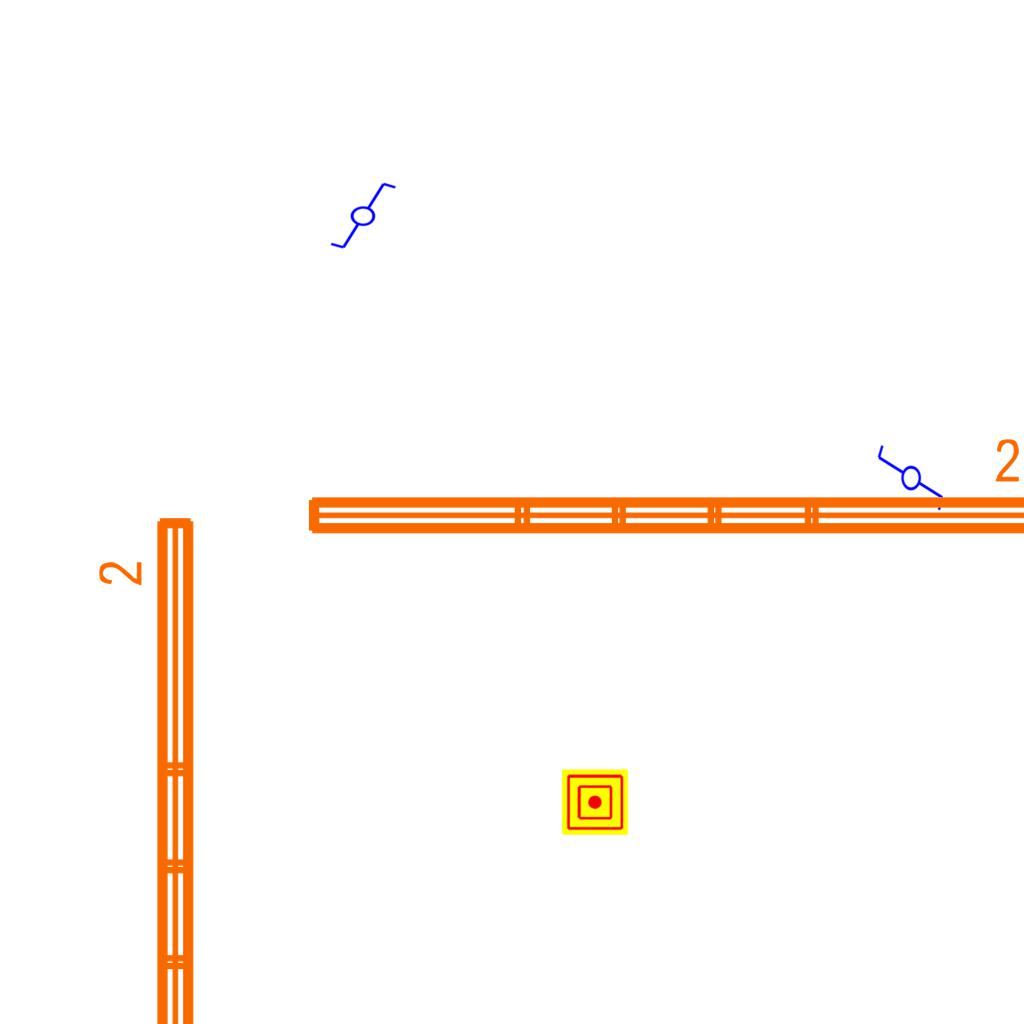Ambulanz_Pendelleuchte_LED: (298, 434, 1024, 546), (94, 509, 206, 1024)
NAM-Nichtautomatischer_Melder: (562, 769, 628, 835)
Wechselschalter: (874, 443, 946, 521), (320, 179, 398, 251)
